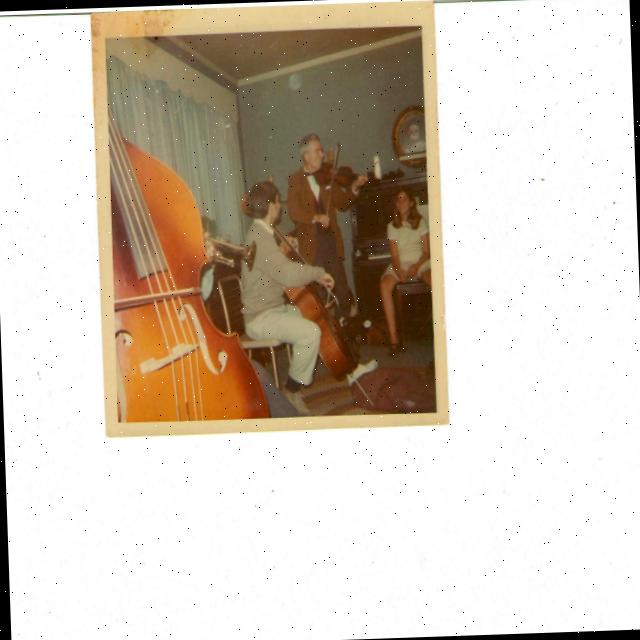cello: (106, 78, 270, 424), (244, 190, 358, 384)
violin: (313, 160, 378, 188)
